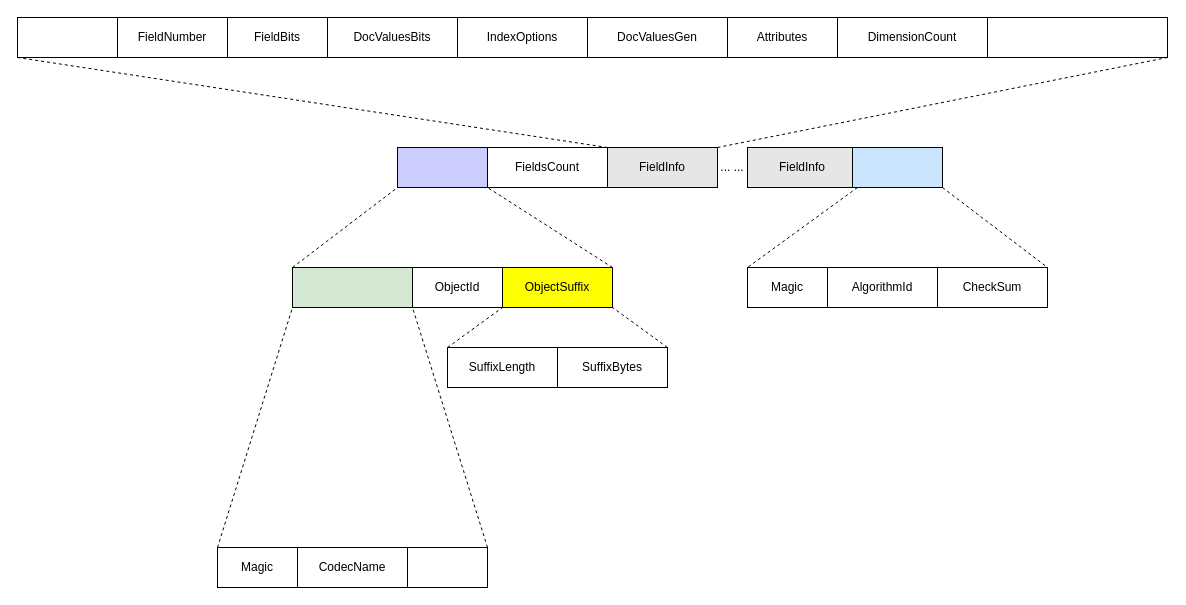
This 1186x605 diagram has some shape labels left out. Each missing label, with the centre of its shape:
"CodecHeader" belongs at point (352, 287).
"DimensionNumBytes" belongs at point (1077, 37).
"FieldName" belongs at point (67, 37).
"Footer" belongs at point (897, 167).
"Header" belongs at point (442, 167).
"Version" belongs at point (447, 567).
